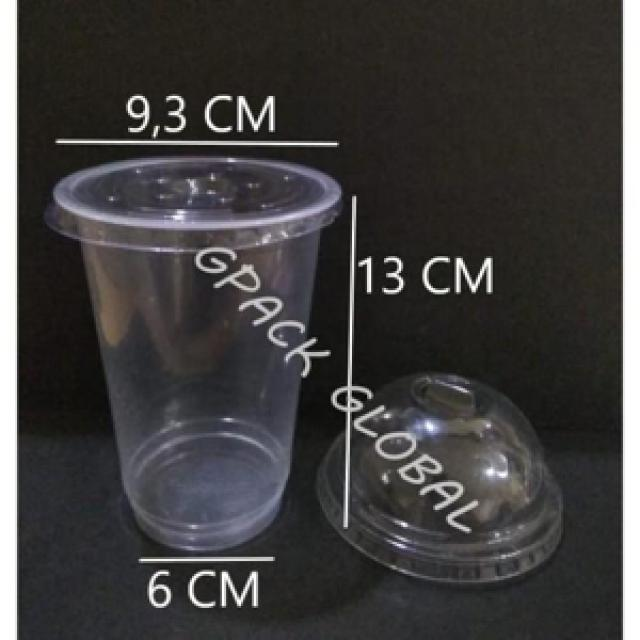plastic cup: (38, 149, 346, 557)
